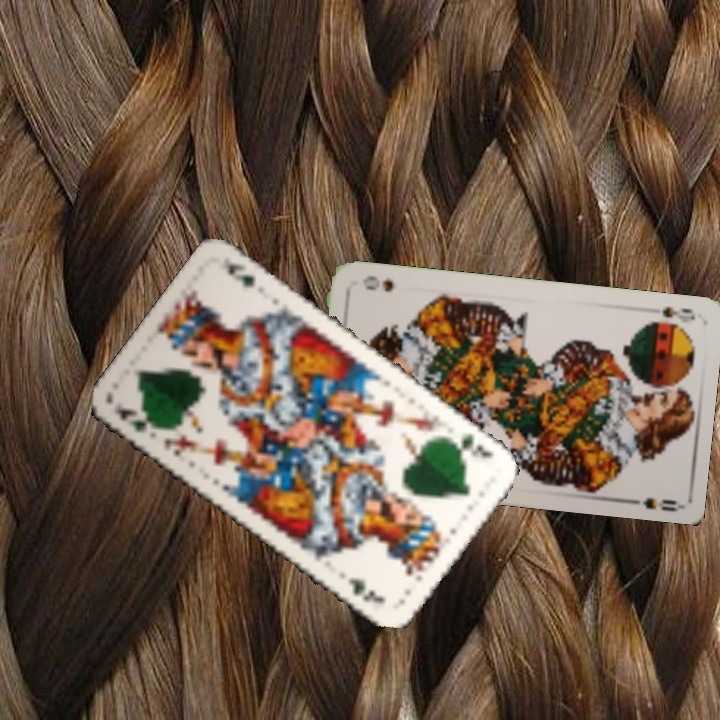GK: (111, 402, 164, 436), (446, 428, 497, 461)
SO: (658, 303, 698, 326)
